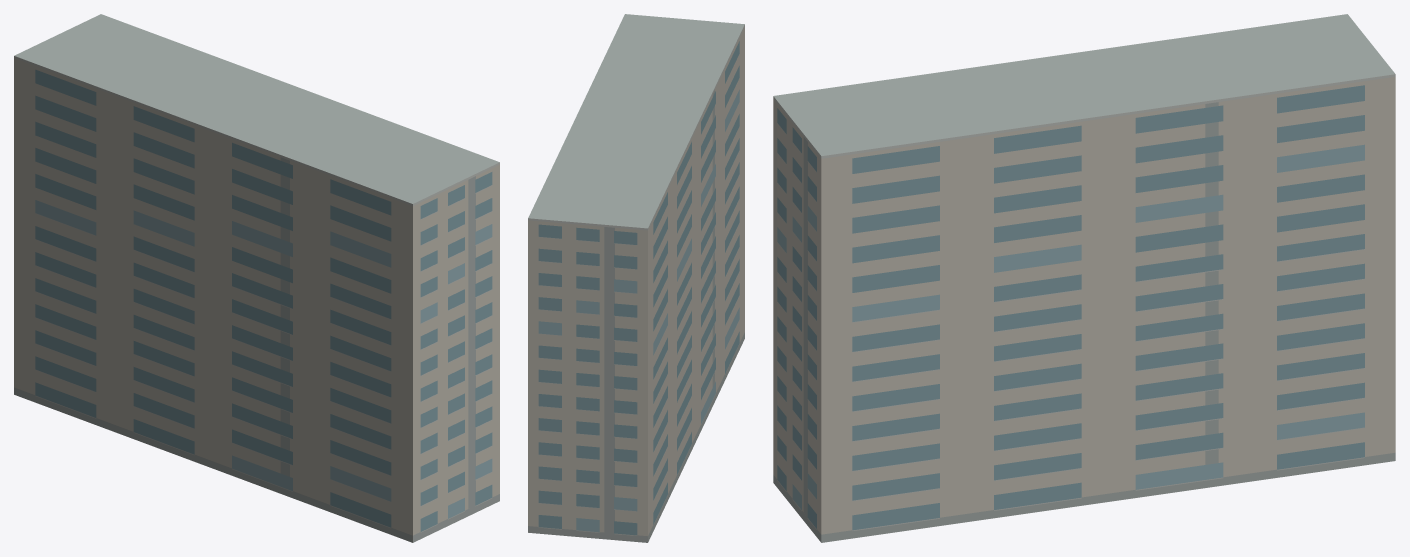
The model's file is residential-059fb955-0ba9-4bca-985b-41f666f3a3b3.glb.
3 renders of one model, left to right at view 1: azimuth 30°, elevation 25°; view 2: azimuth 150°, elevation 25°; view 3: azimuth 270°, elevation 25°, orthographic. The views are drawn at different scales.
Parts seen in each view (by area): view 1: residential-059fb955-0ba9-4bca-985b-41f666f3a3b3.tmp; view 2: residential-059fb955-0ba9-4bca-985b-41f666f3a3b3.tmp; view 3: residential-059fb955-0ba9-4bca-985b-41f666f3a3b3.tmp.
Part boxes in pixels (left/top/right/bottom): residential-059fb955-0ba9-4bca-985b-41f666f3a3b3.tmp: left=14, top=14, right=499, bottom=542; residential-059fb955-0ba9-4bca-985b-41f666f3a3b3.tmp: left=528, top=14, right=744, bottom=542; residential-059fb955-0ba9-4bca-985b-41f666f3a3b3.tmp: left=773, top=14, right=1395, bottom=542.
Bounding box in the file's own units: 28.4 × 36 × 52.52.
